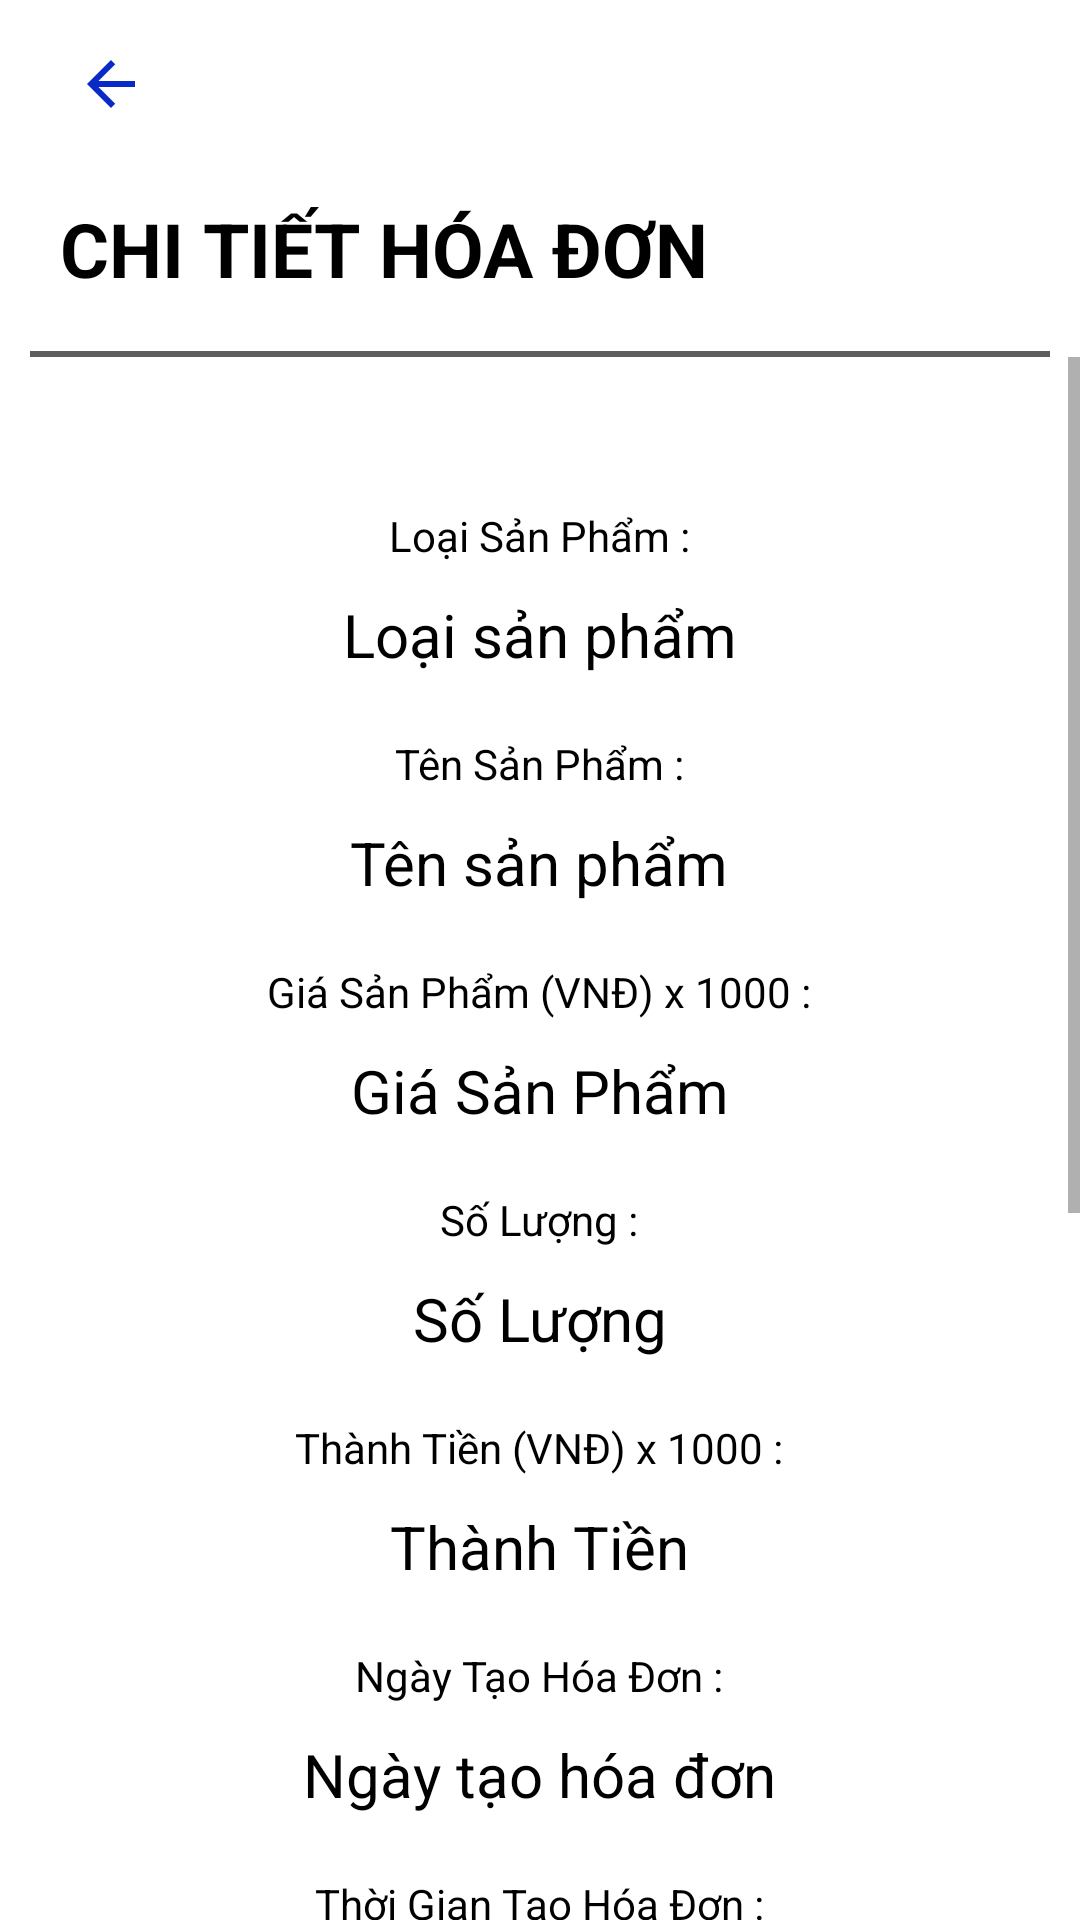

Screen size 1080w x 1920h. Icon name, then its box in pixels as {"left": x1, "top": y1, "right": x2, "bottom": y2}:
arrow back: {"left": 87, "top": 60, "right": 135, "bottom": 108}
